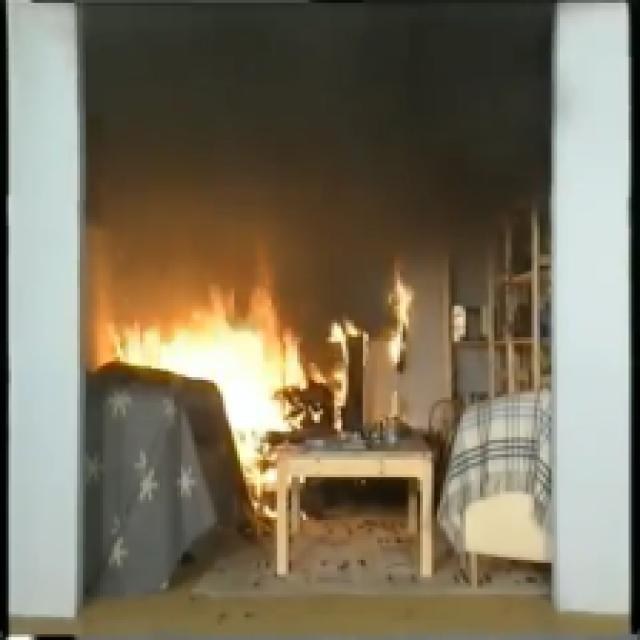Fire: (116, 295, 324, 470)
